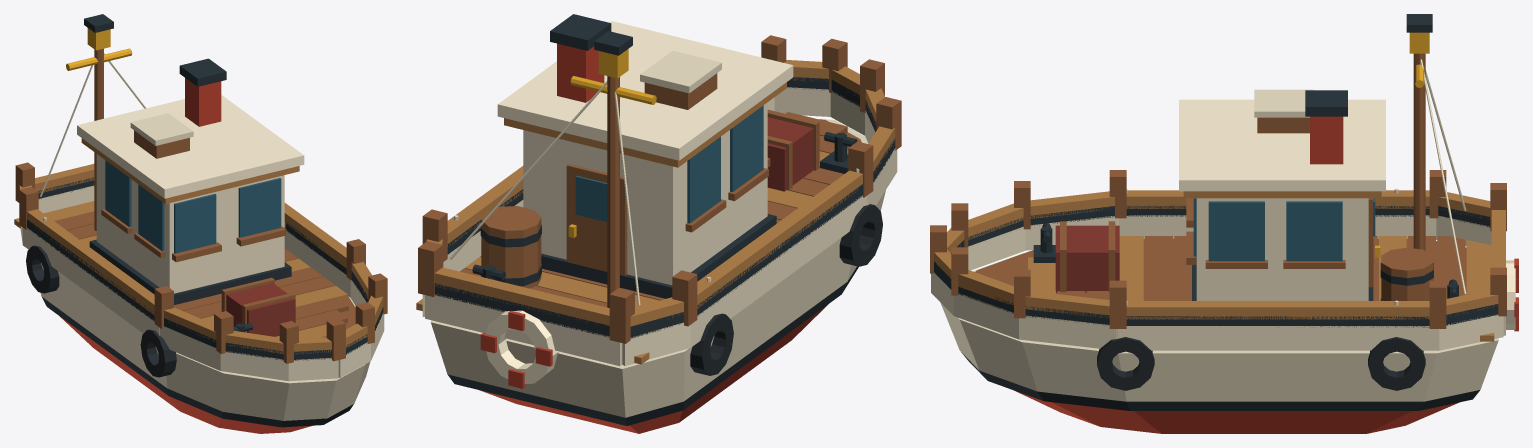
The model's file is transport_boat.glb.
The picture shows the model from 3 angles, left to right: view 1: azimuth 30°, elevation 25°; view 2: azimuth 150°, elevation 25°; view 3: azimuth 270°, elevation 25°; orthographic projection. The views are drawn at different scales.
Parts seen in each view (by area): view 1: cabin__white, hull__cream, cabin__cream, deck_fittings__wood, deck_fittings__wood2, deck_fittings__cream, cabin__glass, deck_fittings__dark, cabin__dark, deck_fittings__rubber, deck_fittings__red_dark, cabin__wood (+8 smaller); view 2: cabin__cream, hull__cream, cabin__white, deck_fittings__wood, deck_fittings__wood2, deck_fittings__cream, deck_fittings__dark, cabin__glass, cabin__wood, cabin__dark, deck_fittings__rubber, hull__dark (+10 smaller); view 3: hull__cream, deck_fittings__wood2, deck_fittings__cream, deck_fittings__wood, cabin__white, cabin__cream, deck_fittings__dark, hull__red, cabin__glass, hull__dark, deck_fittings__rubber, deck_fittings__red_dark (+8 smaller).
Part boxes in pixels (x1,y1,x2,y2): cabin__white: (77, 95, 304, 198); hull__cream: (40, 262, 370, 420); cabin__cream: (96, 113, 284, 293); deck_fittings__wood: (15, 162, 387, 363); deck_fittings__wood2: (14, 164, 383, 354); deck_fittings__cream: (20, 185, 384, 381); cabin__glass: (105, 160, 281, 253); deck_fittings__dark: (27, 177, 383, 360); cabin__dark: (89, 58, 291, 304); deck_fittings__rubber: (26, 245, 176, 377); deck_fittings__red_dark: (226, 283, 295, 336); cabin__wood: (101, 130, 286, 262); cabin__cream: (523, 50, 767, 285); hull__cream: (430, 119, 885, 417); cabin__white: (497, 21, 793, 160); deck_fittings__wood: (418, 35, 901, 343); deck_fittings__wood2: (416, 60, 895, 364); deck_fittings__cream: (422, 87, 897, 366); deck_fittings__dark: (434, 77, 895, 338); cabin__glass: (575, 105, 763, 223); cabin__wood: (566, 73, 770, 275); cabin__dark: (541, 14, 776, 298); deck_fittings__rubber: (690, 204, 882, 375); hull__dark: (447, 266, 858, 425); hull__cream: (940, 253, 1498, 401); deck_fittings__wood2: (934, 190, 1505, 341); deck_fittings__cream: (931, 188, 1505, 350); deck_fittings__wood: (930, 170, 1506, 328); cabin__white: (1179, 99, 1385, 191); cabin__cream: (1196, 89, 1368, 300); deck_fittings__dark: (934, 205, 1498, 327); hull__red: (1013, 390, 1459, 433); cabin__glass: (1193, 198, 1375, 261); hull__dark: (961, 352, 1479, 410); deck_fittings__rubber: (1097, 337, 1425, 390); deck_fittings__red_dark: (1055, 225, 1119, 292).
Bounding box in the file's own units: 1.87 × 2.61 × 3.87.
